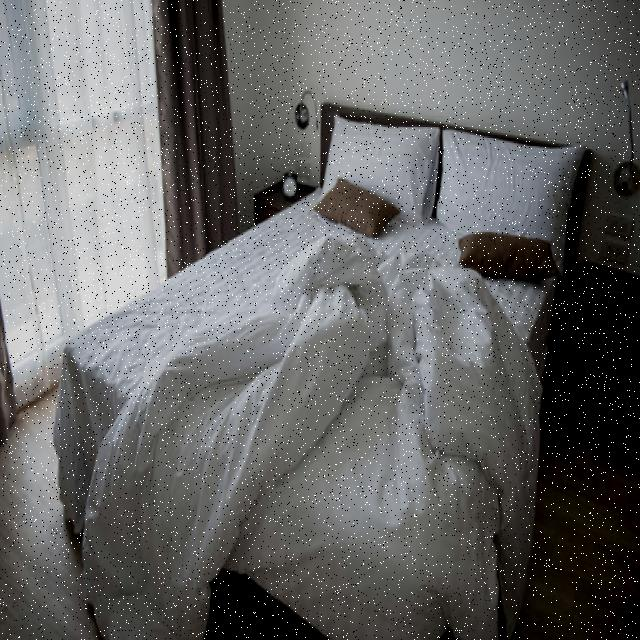bed: (58, 111, 588, 640)
